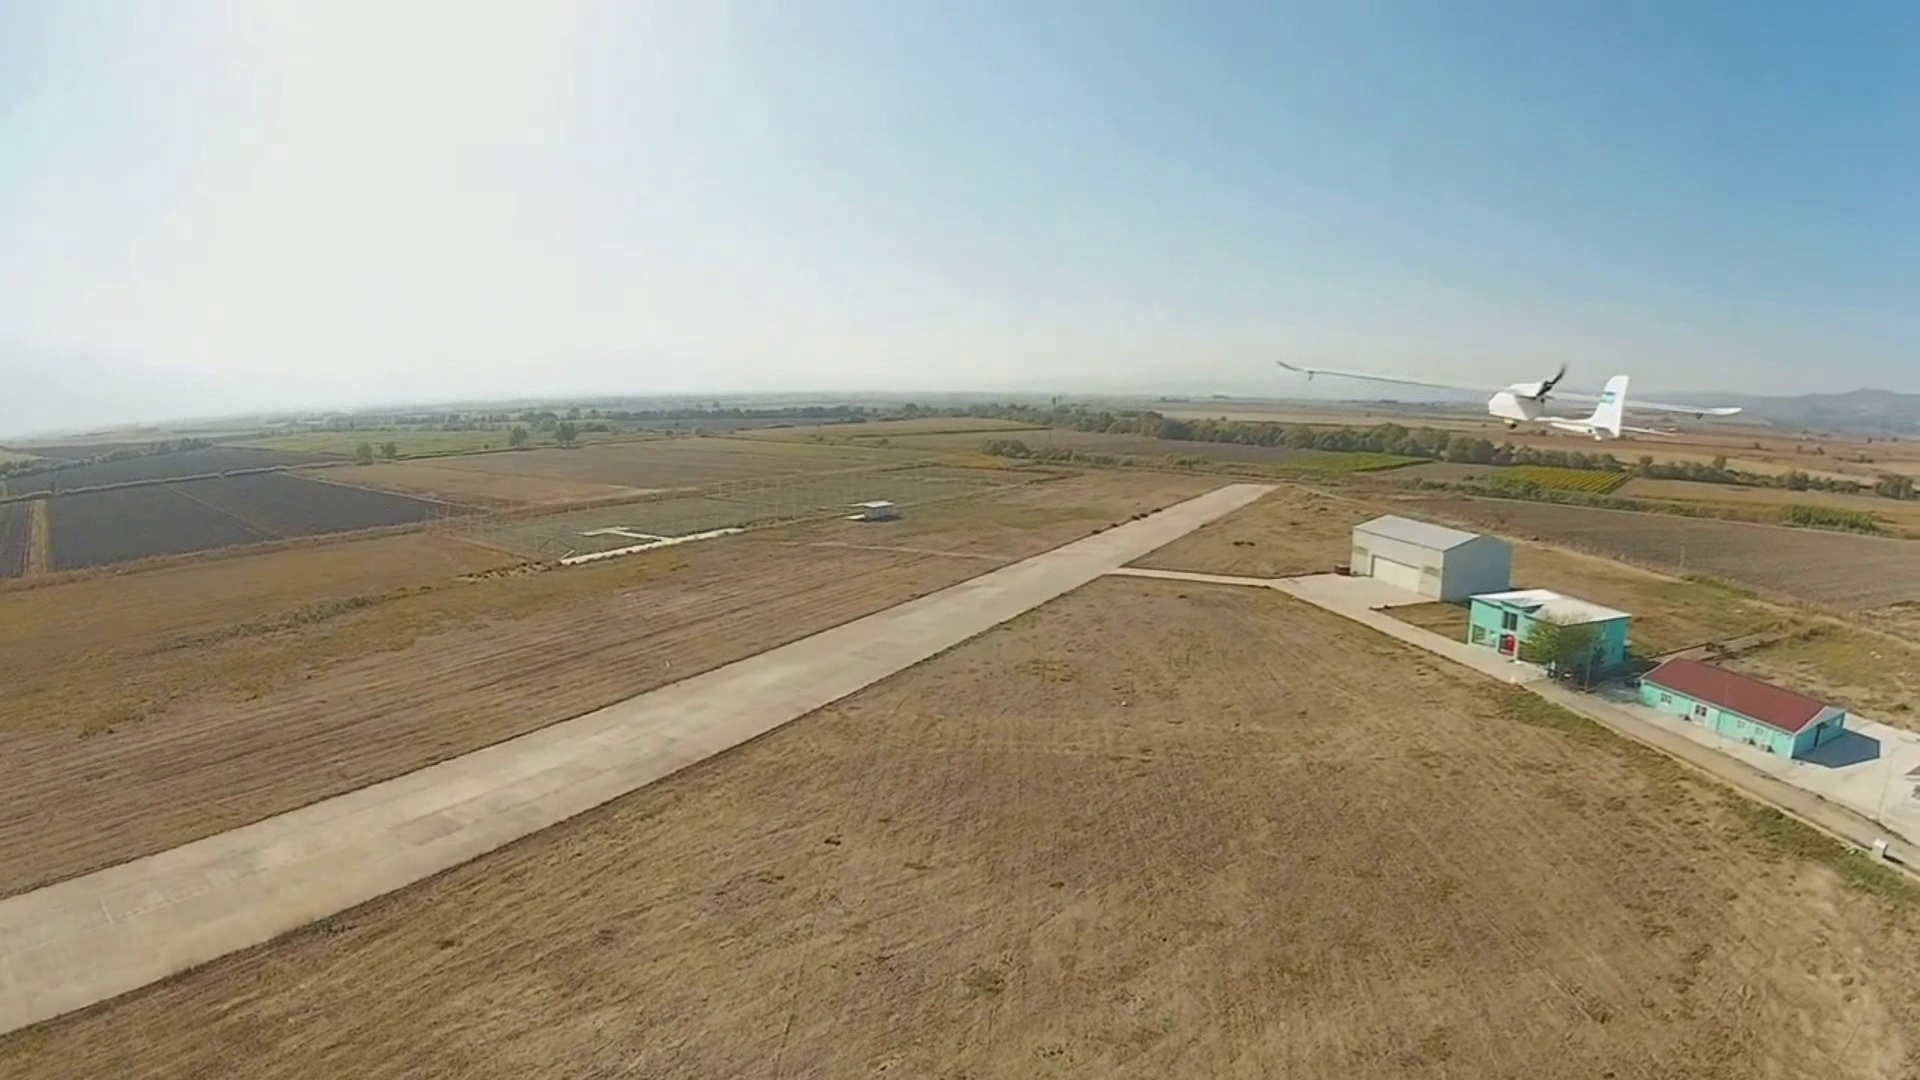airplane: (1274, 349, 1738, 440)
